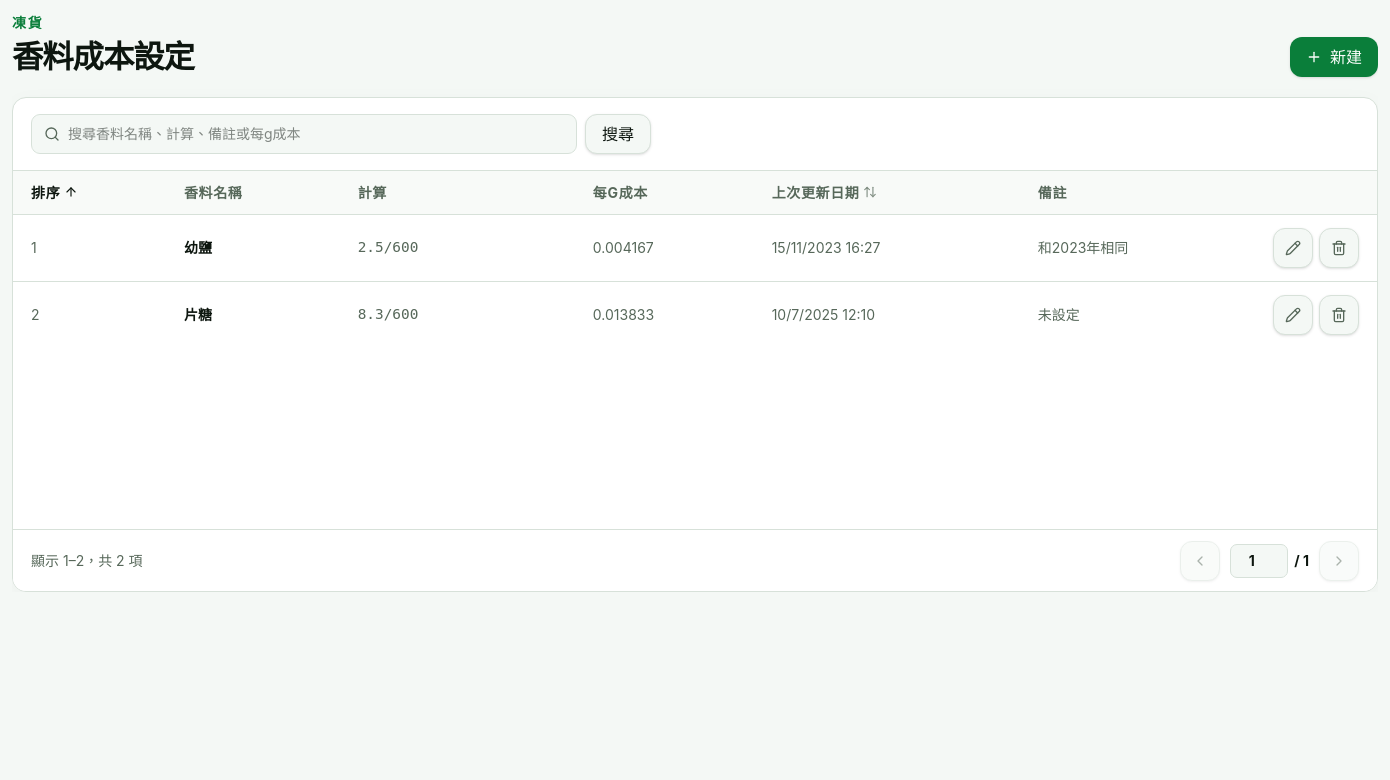
Seasoning cost settings page › deletes a seasoning after confirmation
Check: the text "幼鹽" is shown, box [184, 239, 212, 256]
Click the button named "刪除" in the row of "幼鹽". click: (1339, 248)
box: [1319, 228, 1359, 268]
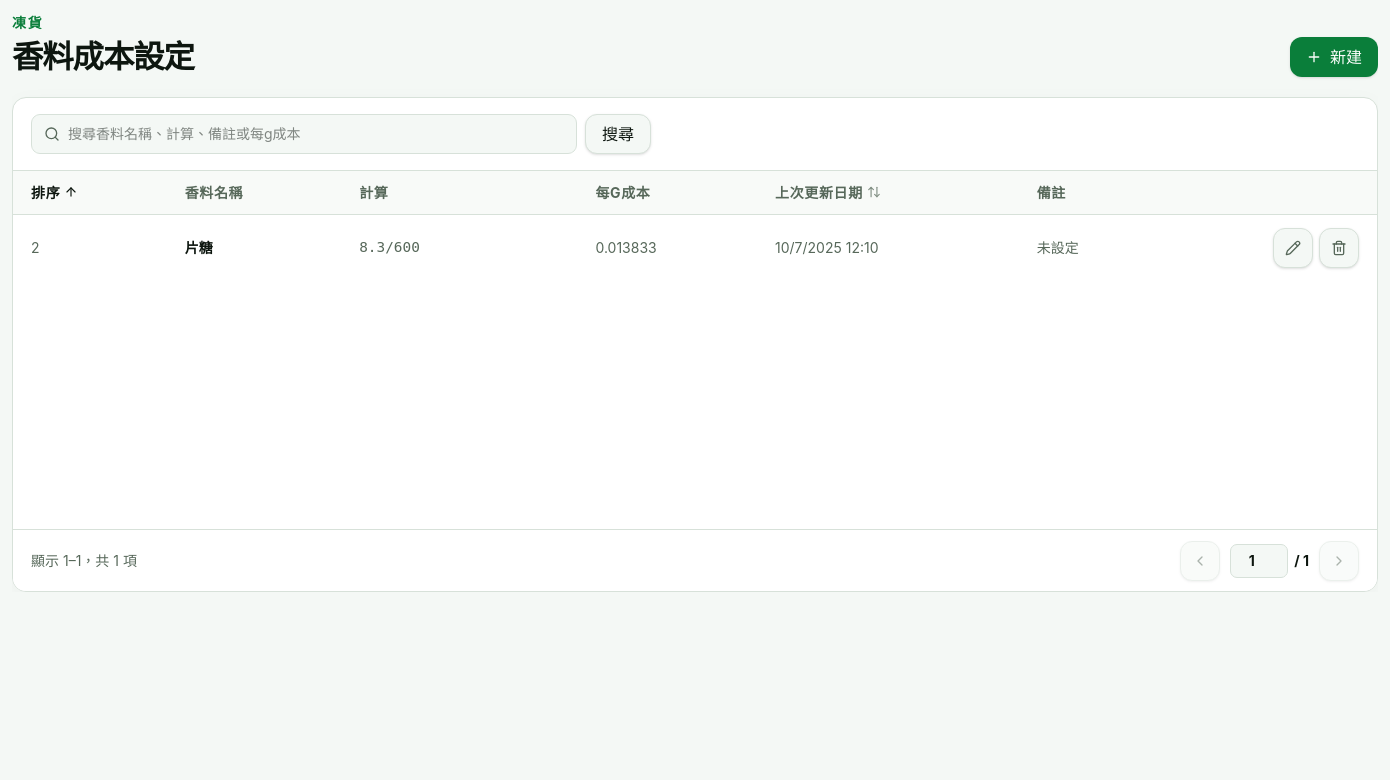
Check: the text "片糖" is shown, box [185, 239, 213, 256]
Check: the text "幼鹽" is gone
